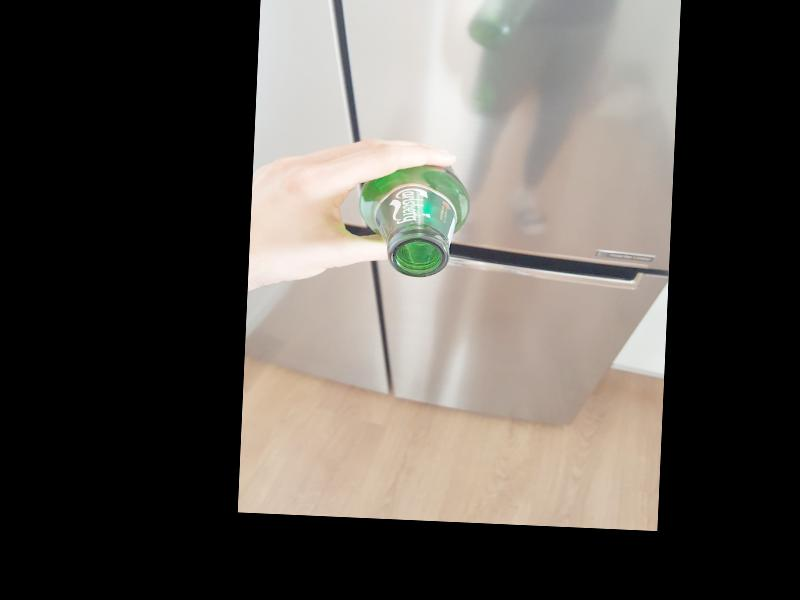Beer: (359, 161, 470, 279)
